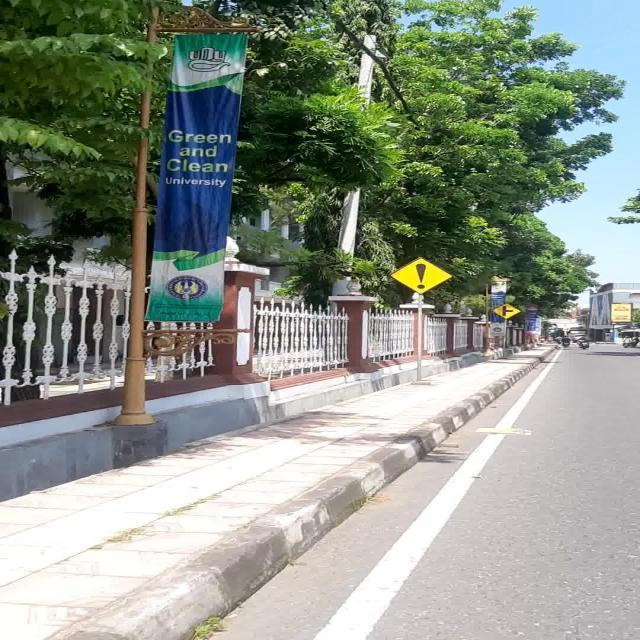Hati-Hati: (388, 256, 452, 294)
